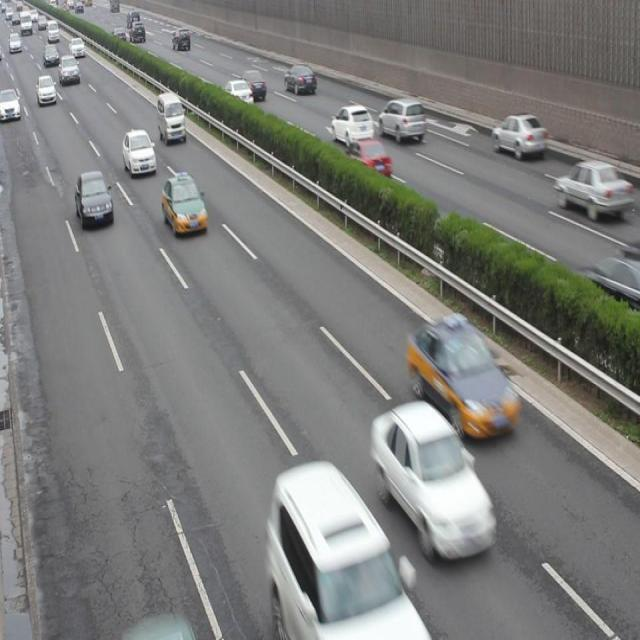car: (271, 463, 414, 640), (371, 402, 498, 562), (410, 318, 519, 441), (555, 156, 622, 220), (162, 172, 207, 239), (491, 111, 547, 159), (378, 96, 426, 143), (76, 170, 113, 229), (342, 139, 390, 181), (330, 102, 373, 148), (122, 128, 156, 177), (284, 62, 316, 97), (220, 80, 252, 112), (238, 68, 266, 100)
truck: (156, 91, 186, 145)
